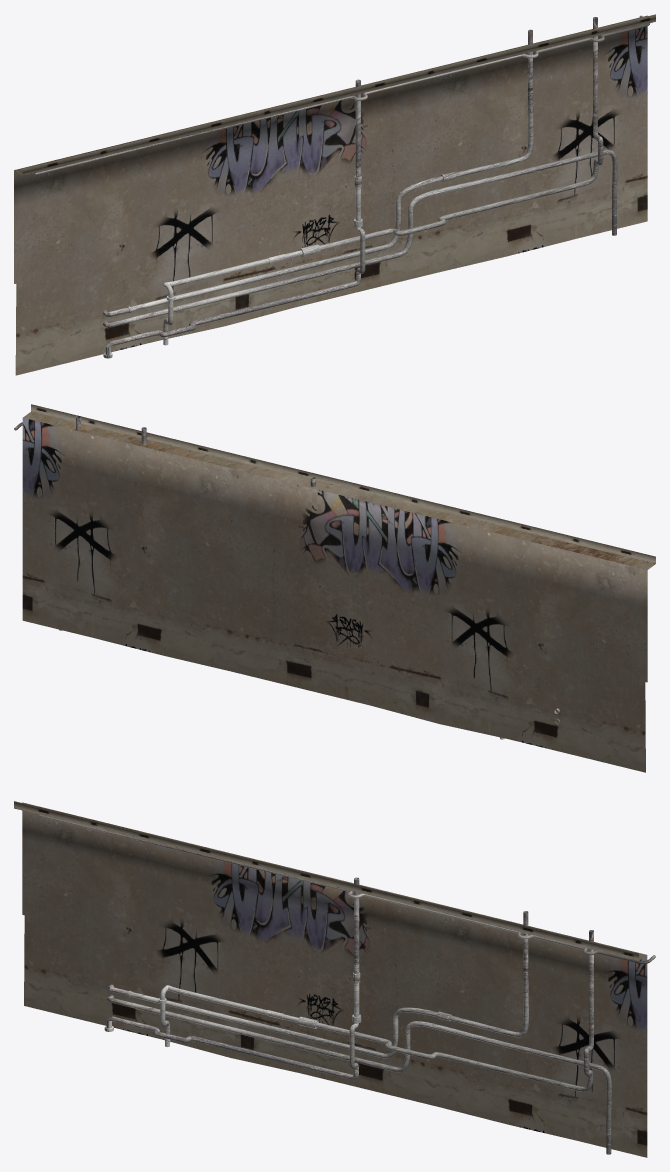
The model's file is Pipes.fbx.
3 views of the same model, one above another, from view 1: azimuth 30°, elevation 25°; view 2: azimuth 150°, elevation 25°; view 3: azimuth 330°, elevation 25° (orthographic).
Parts seen in each view (by area): view 1: Plane, BezierCurve, Pipe backup; view 2: Plane; view 3: Plane, BezierCurve, Pipe backup.
Part boxes in pixels (left/top/right/bottom): Plane: left=14, top=14, right=655, bottom=375; BezierCurve: left=103, top=17, right=617, bottom=358; Pipe backup: left=35, top=15, right=649, bottom=174; Plane: left=22, top=404, right=655, bottom=772; Plane: left=14, top=801, right=647, bottom=1157; BezierCurve: left=104, top=877, right=611, bottom=1154; Pipe backup: left=39, top=815, right=655, bottom=963.
Size of what is drawn, in the model's own units: 1348 by 456 by 60.82.
2 materials, 2 textured.
